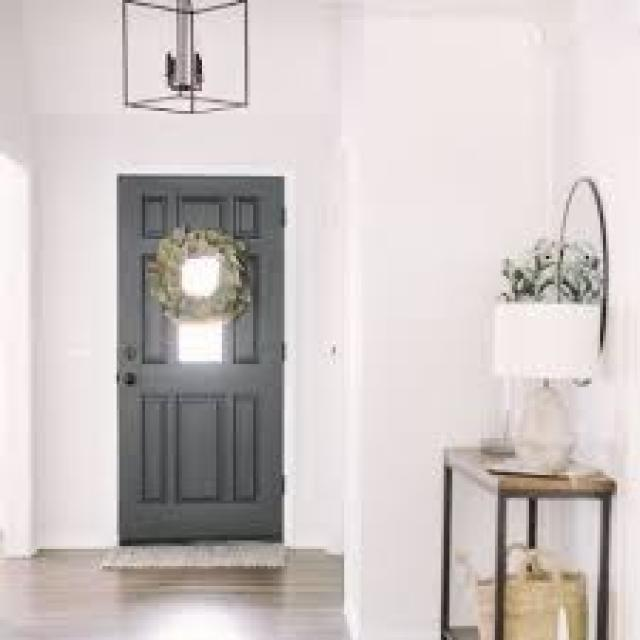door: (115, 174, 286, 544)
